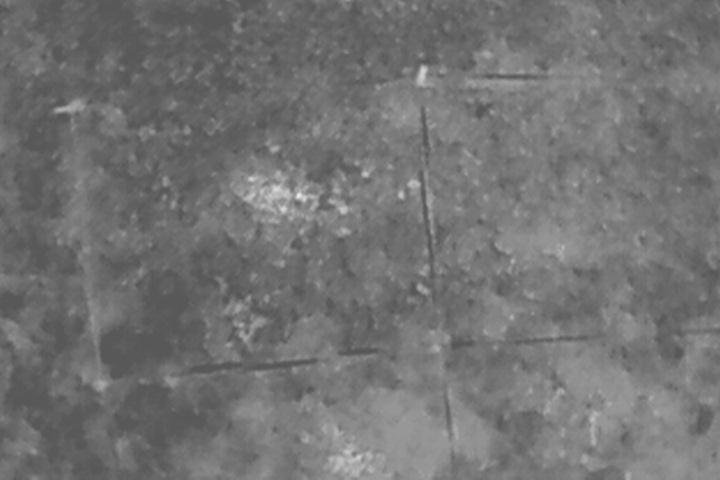landmine: (254, 174, 305, 222)
